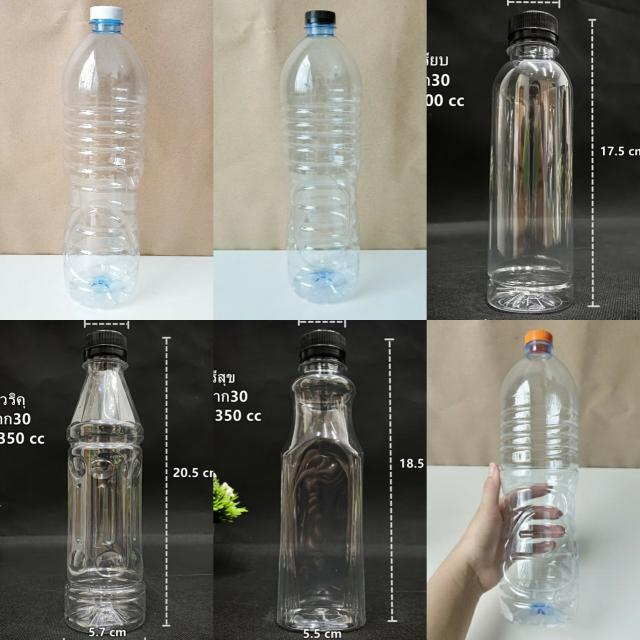plastik: (278, 330, 365, 630), (62, 6, 148, 308), (488, 11, 574, 312), (65, 330, 145, 634), (280, 10, 362, 302), (500, 332, 579, 625)
